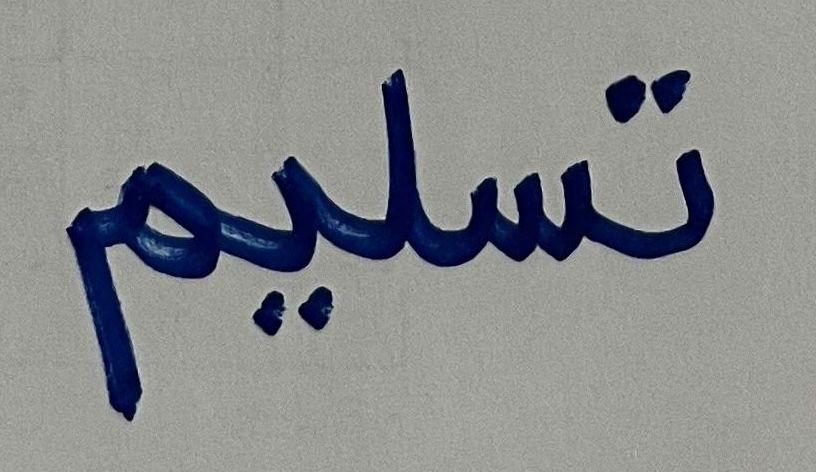lam: (346, 29, 433, 290)
meem: (28, 88, 219, 437)
seen: (441, 63, 597, 331)
teh: (599, 40, 735, 346)
yeh: (222, 94, 337, 371)
